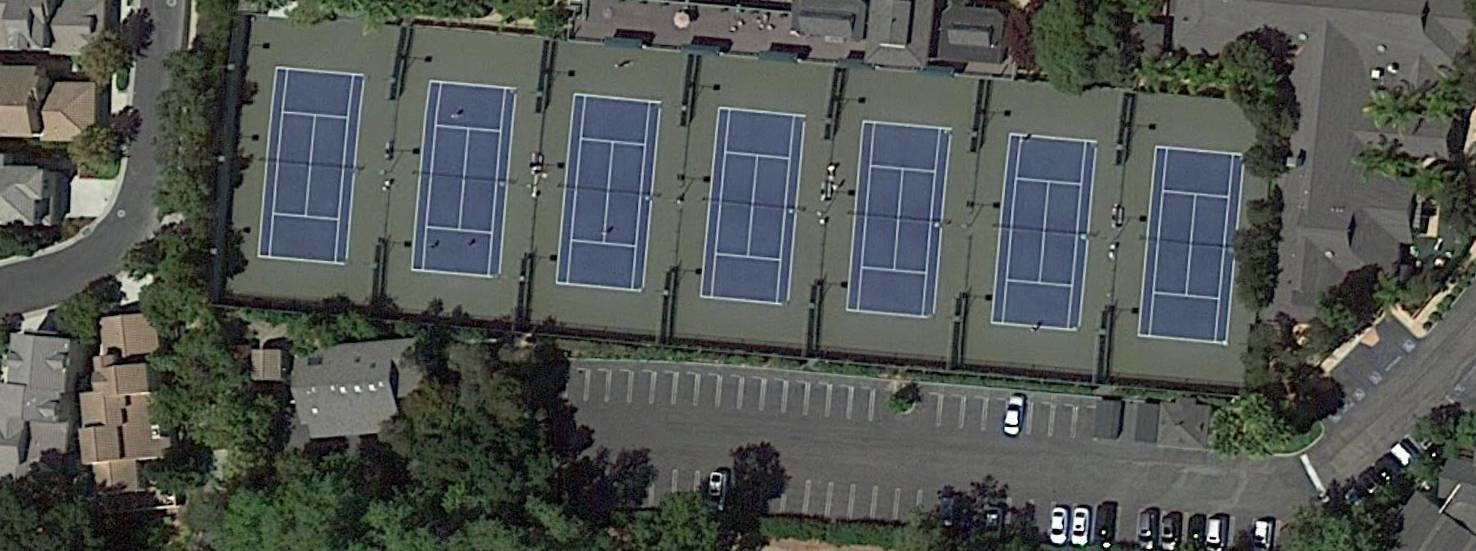small vehicle: (1002, 393, 1026, 440), (1094, 505, 1117, 548), (1071, 505, 1092, 550), (1050, 507, 1071, 547), (1137, 511, 1159, 549), (1161, 517, 1180, 551)
tennis court: (256, 67, 367, 267), (991, 131, 1100, 334), (409, 79, 518, 279), (844, 120, 952, 320), (1138, 146, 1246, 345), (555, 93, 662, 291), (701, 107, 805, 306)
